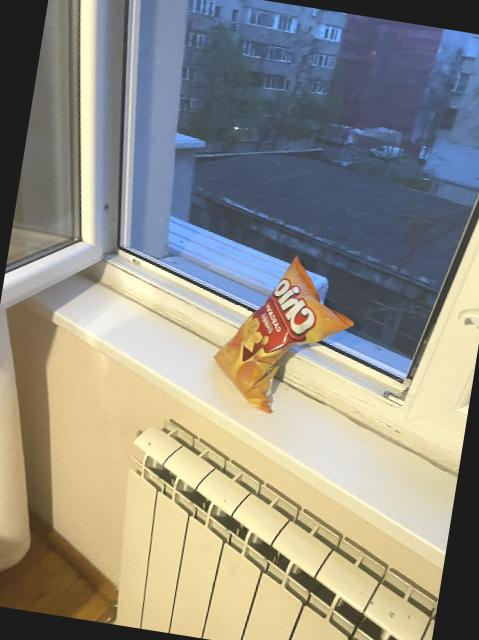Chio Cascaval 125g: (205, 246, 362, 419)
